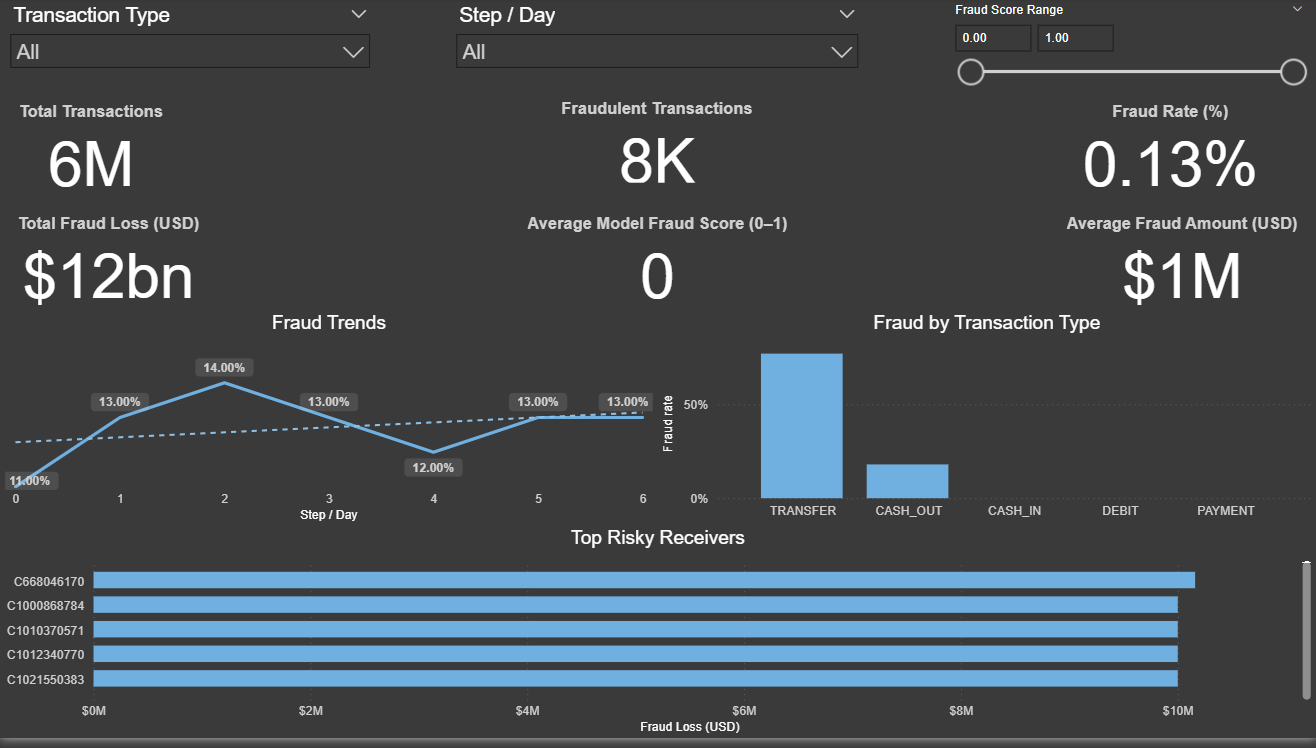

This screenshot's page, from the dashboard's own definition file:
{"tool":"powerbi","page":{"name":"Fraud activity","canvas":[1440,850],"ordinal":0},"visuals":[{"type":"textbox","box":[0,0,265,850],"z":0},{"type":"textbox","box":[16,12,239,102],"z":1},{"type":"textbox","box":[265,0,1175,77],"z":2},{"type":"textbox","box":[281,0,605,77],"z":3},{"type":"pageNavigator","box":[958,16,460,44],"z":4},{"type":"card","fields":{"Values":["Activity.Transactions"]},"box":[14,121,237,137],"z":5},{"type":"card","fields":{"Values":["Activity.Fraud cases"]},"box":[14,276,237,137],"z":6},{"type":"card","fields":{"Values":["Activity.Fraud rate"]},"box":[14,431,237,137],"z":7},{"type":"card","fields":{"Values":["Activity.Fraud amount (bn)"]},"box":[14,586,237,137],"z":8},{"type":"textbox","box":[14,761,239,76],"z":9},{"type":"slicer","fields":{"Values":["Activity.Payment type"]},"box":[286,82,562,63],"z":10},{"type":"slicer","fields":{"Values":["Activity.Simulation day"]},"box":[865,82,553,63],"z":11},{"type":"lineChart","title":"Fraud cases by simulation day","fields":{"Category":["Activity.Simulation day"],"Y":["Activity.Fraud cases"]},"box":[286,159,676,338],"z":12},{"type":"clusteredBarChart","title":"Fraud rate by payment type","fields":{"Category":["Activity.Payment type"],"Y":["Activity.Fraud rate"]},"box":[977,159,441,338],"z":13},{"type":"tableEx","title":"Payment type breakdown","fields":{"Values":["Activity.Payment type","Activity.Transactions","Activity.Volume share","Activity.Fraud cases","Activity.Fraud rate","Activity.Fraud amount (bn)"]},"box":[286,512,1132,314],"z":14}]}

Visuals, with their boxes on the page's 1440x850 design canvas (x1, y1, x2, y2). These are canvas units, not pixel positions in the 1316x748 screenshot, which may show the page scaled, cropped or inside an application window:
textbox: l=0, t=0, r=265, b=850
textbox: l=16, t=12, r=255, b=114
textbox: l=265, t=0, r=1440, b=77
textbox: l=281, t=0, r=886, b=77
pageNavigator: l=958, t=16, r=1418, b=60
card - Activity.Transactions: l=14, t=121, r=251, b=258
card - Activity.Fraud cases: l=14, t=276, r=251, b=413
card - Activity.Fraud rate: l=14, t=431, r=251, b=568
card - Activity.Fraud amount (bn): l=14, t=586, r=251, b=723
textbox: l=14, t=761, r=253, b=837
slicer - Activity.Payment type: l=286, t=82, r=848, b=145
slicer - Activity.Simulation day: l=865, t=82, r=1418, b=145
"Fraud cases by simulation day" lineChart: l=286, t=159, r=962, b=497
"Fraud rate by payment type" clusteredBarChart: l=977, t=159, r=1418, b=497
"Payment type breakdown" tableEx: l=286, t=512, r=1418, b=826
